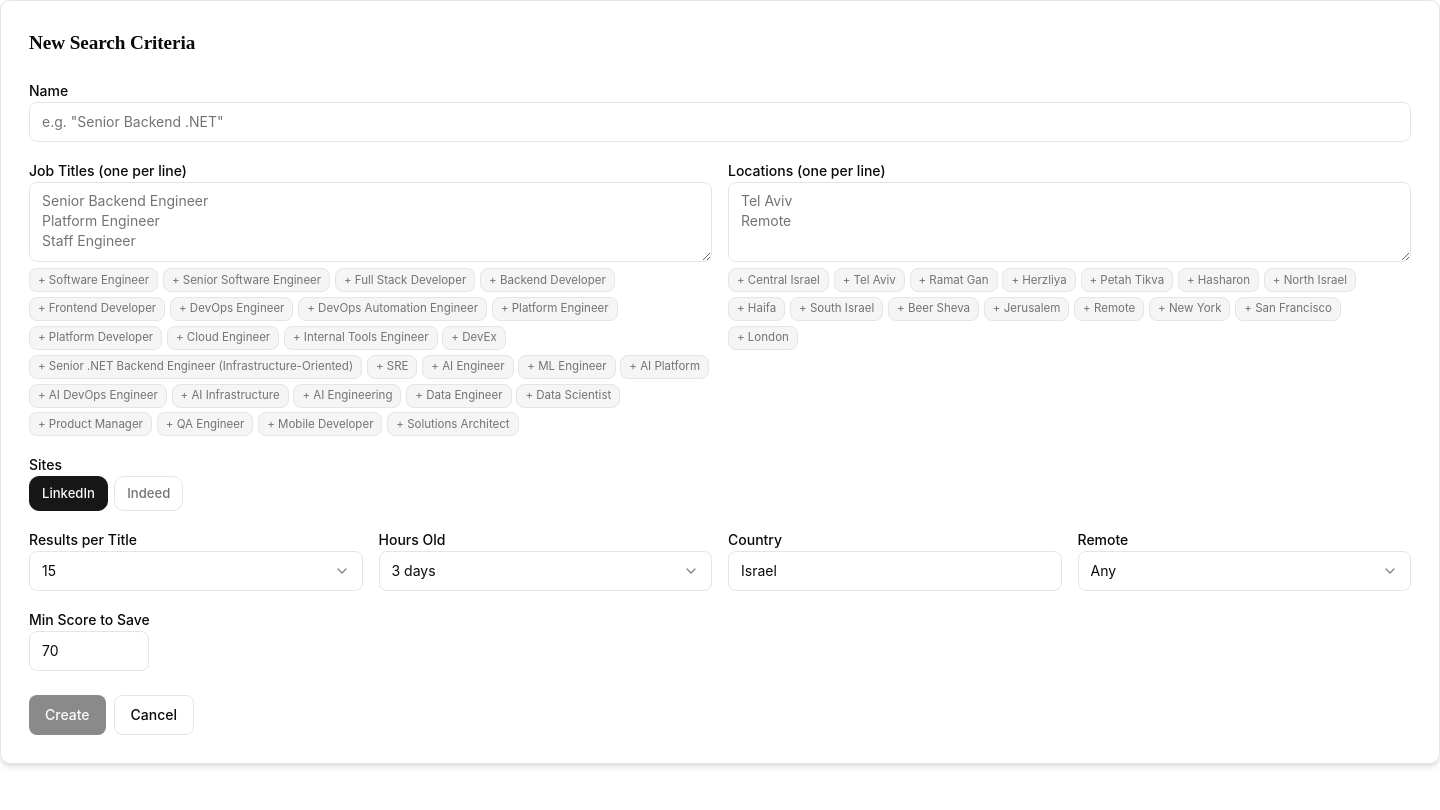
Test case: CriteriaForm - Suggestion Chips › clicking a location suggestion adds it to the textarea
The width and height of the screenshot is (1440, 810).
Click the button "+ Tel Aviv".
click(869, 280)  # box [834,268,905,292]
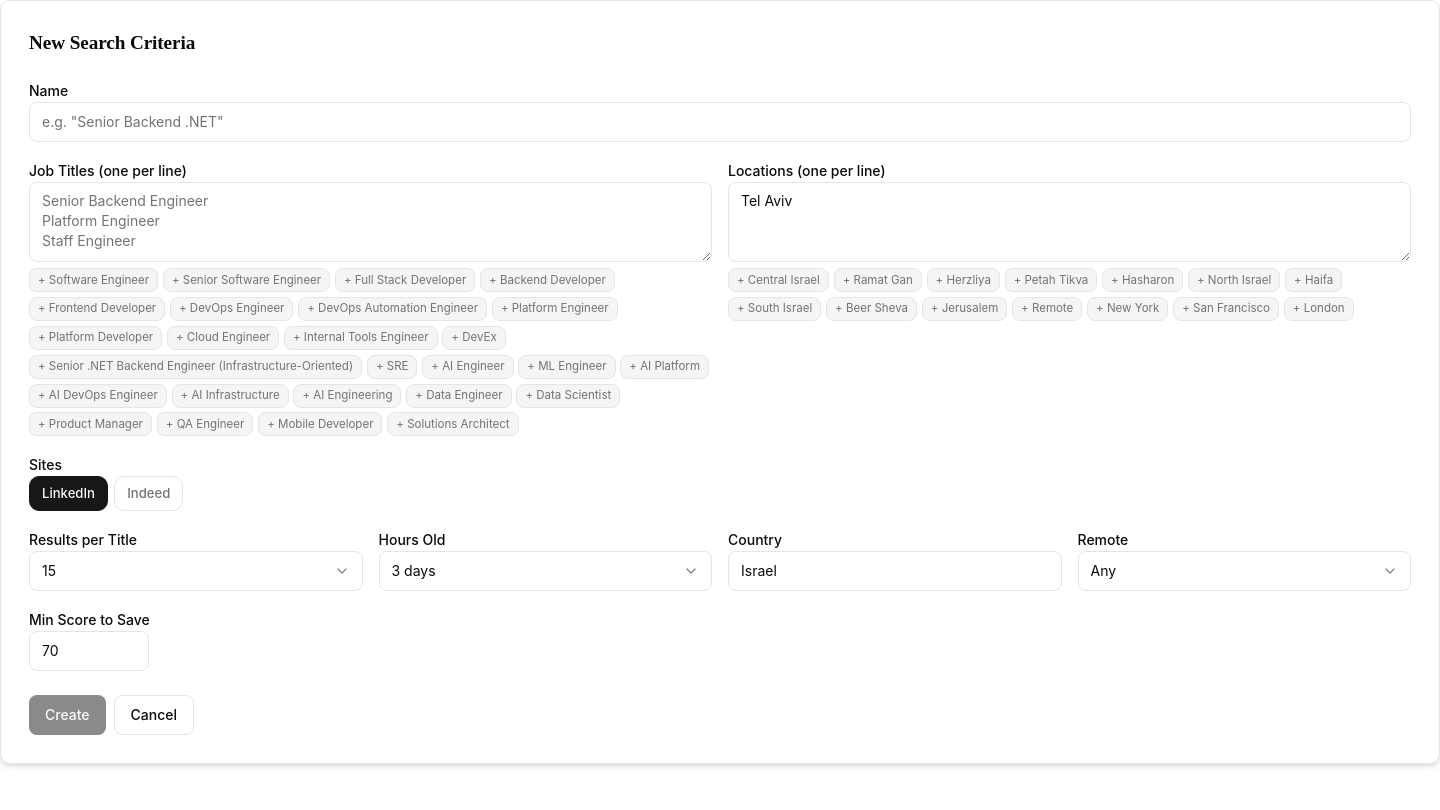
Now the 2nd text box holds "Tel Aviv", box [728,182,1411,262]
